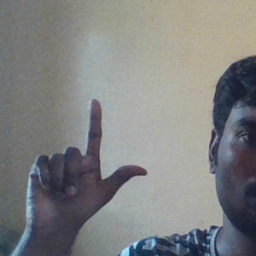L: (23, 96, 150, 223)
